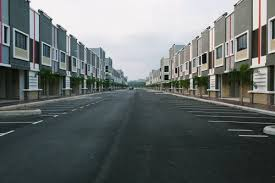strada: (0, 96, 275, 182)
